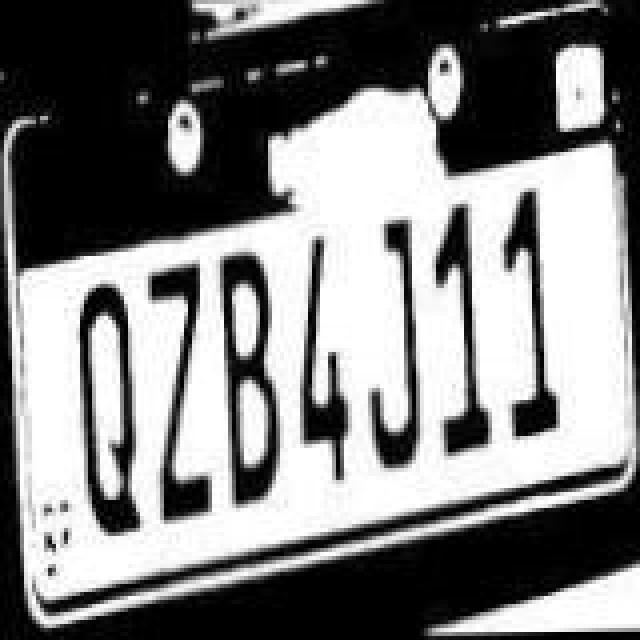1: (500, 184, 572, 440), (432, 206, 496, 458)
4: (294, 240, 362, 492)
B: (210, 240, 286, 512)
J: (358, 218, 426, 478)
Q: (76, 270, 152, 538)
Z: (148, 256, 216, 528)
